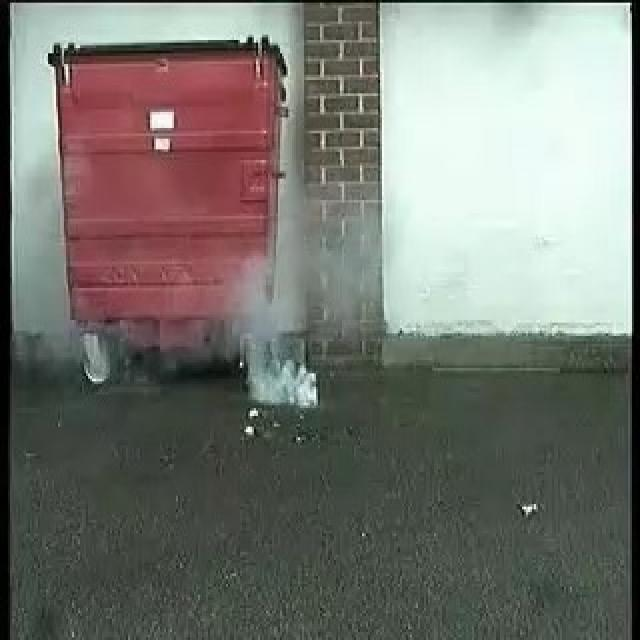smoke: (247, 229, 327, 409)
